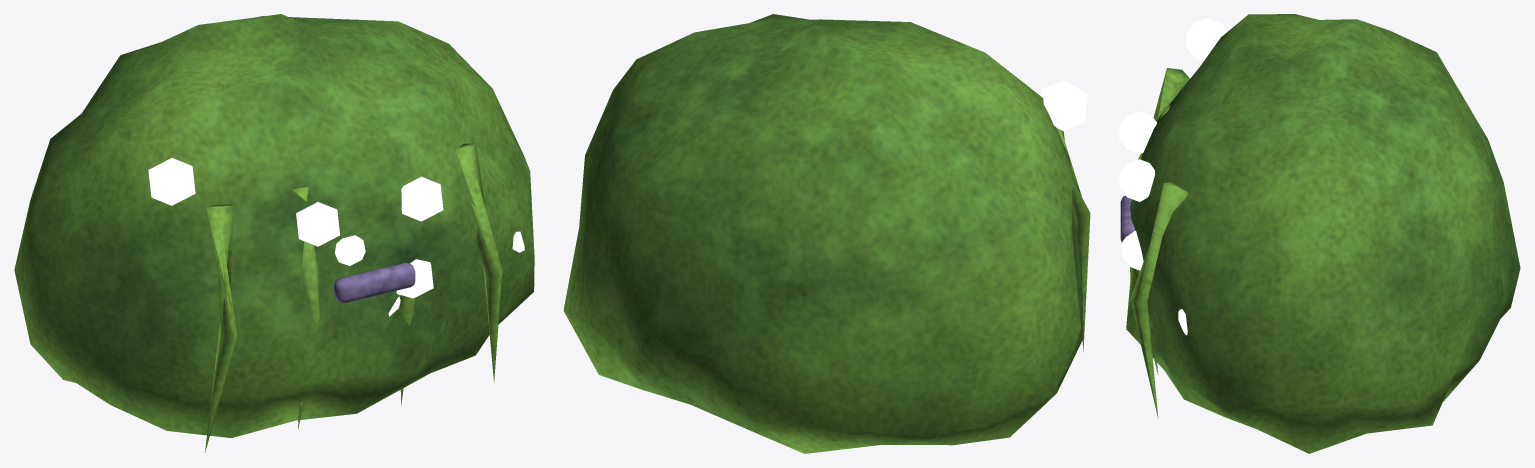
File: MossBlob.fbx
The picture shows the model from 3 angles, left to right: view 1: azimuth 30°, elevation 25°; view 2: azimuth 150°, elevation 25°; view 3: azimuth 270°, elevation 25°; orthographic projection. The views are drawn at different scales.
Parts seen in each view (by area): view 1: MossBlob; view 2: MossBlob; view 3: MossBlob.
Part boxes in pixels (x1,y1,x2,y2): MossBlob: (14,14,534,452); MossBlob: (563,14,1090,453); MossBlob: (1119,14,1520,453).
Size of the model in its own units: 1.09 by 0.7485 by 0.8493.
